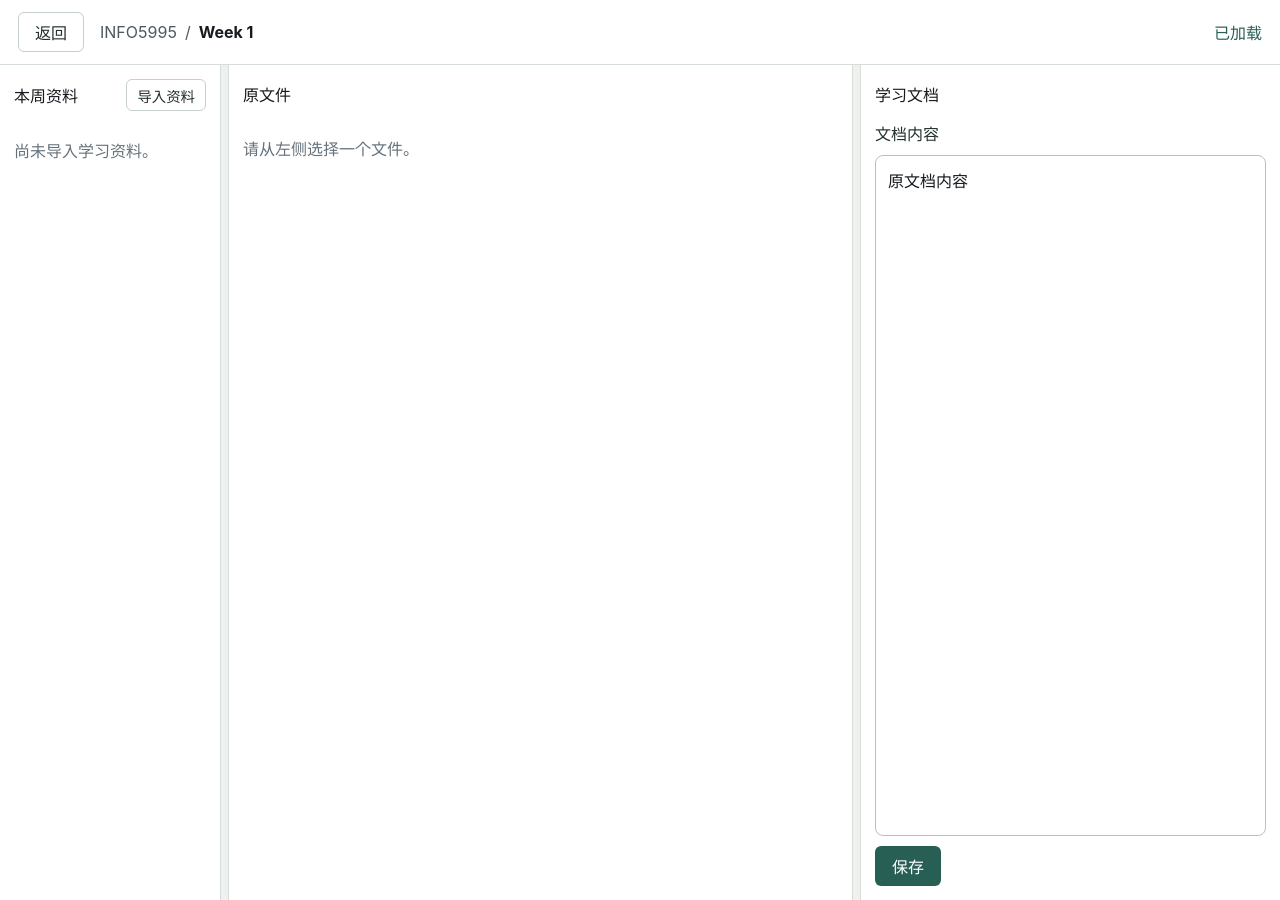
it: WorkspacePage › 多文件导入后全部出现在列表
The width and height of the screenshot is (1280, 900).
Expected: the text "INFO5995" is shown, [100, 22, 177, 42]
Expected: the text "Week 1" is shown, [199, 22, 253, 42]
Click the button "导入资料" at [166, 95], box [126, 79, 206, 111]
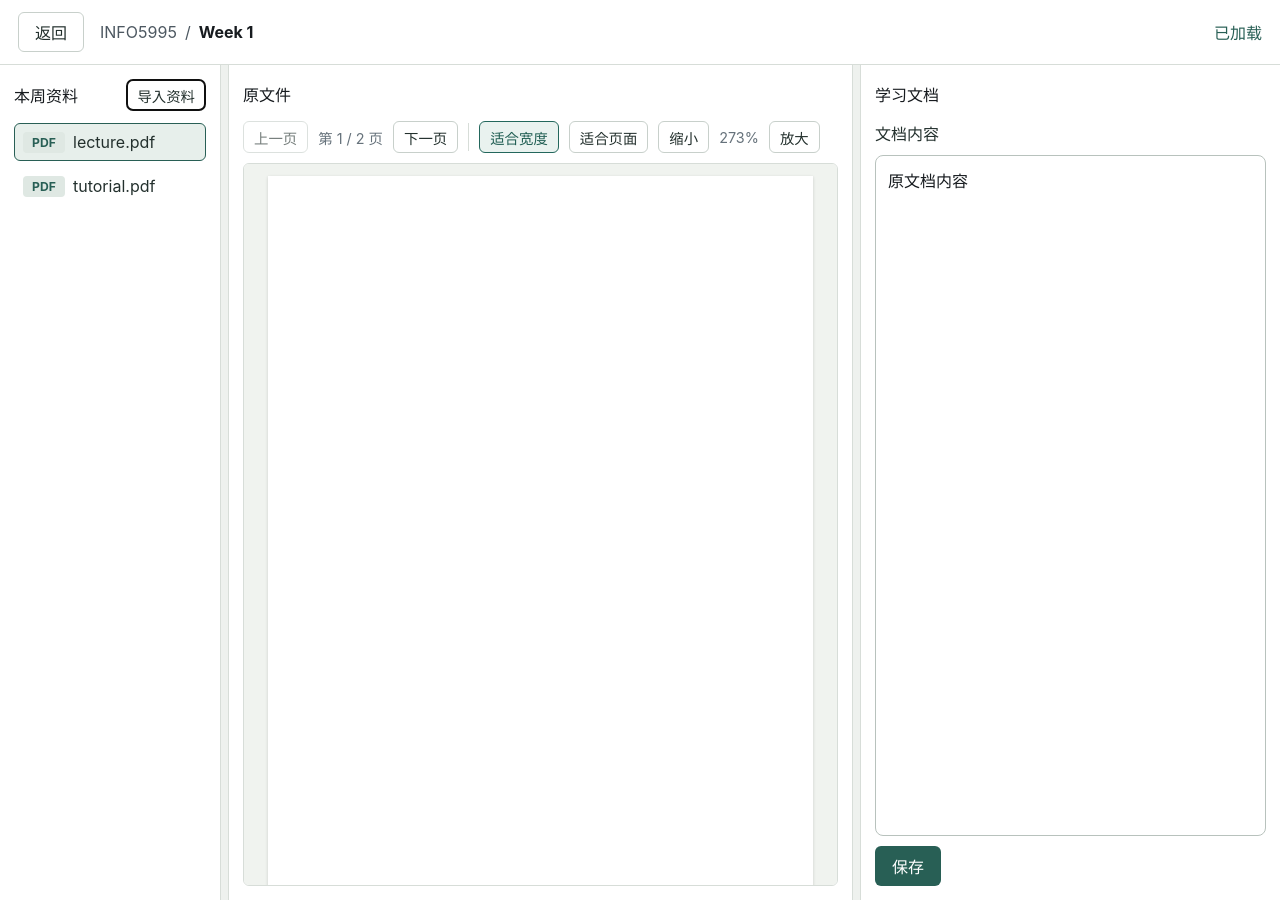
Now the text "lecture.pdf" is shown, box [73, 132, 155, 152]
Now the text "tutorial.pdf" is shown, box [73, 176, 155, 196]
